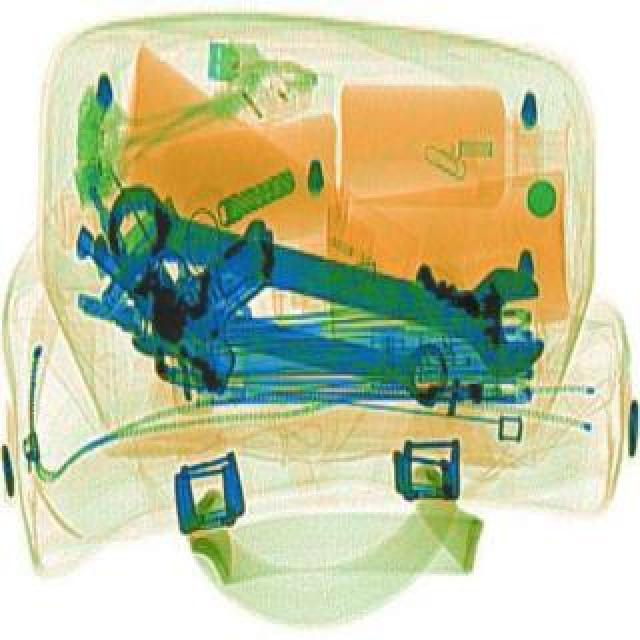gun: (70, 144, 334, 386)
scissors: (90, 168, 562, 380), (122, 276, 454, 412)
